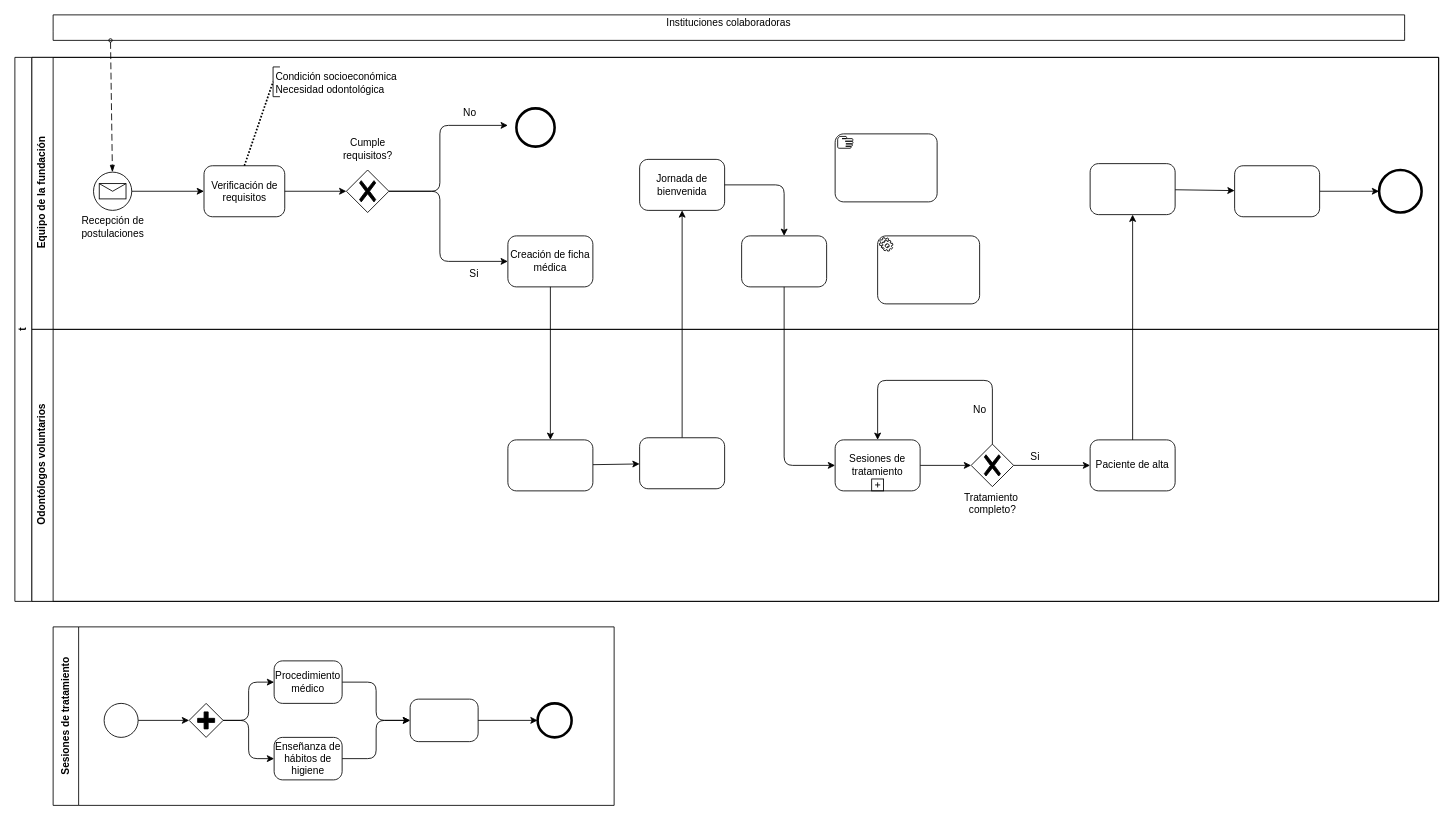
The diagram is 1454 pixels wide and 820 high, and some of its shapes have lost their labels. The centre of each missing label's shape, as x and y in pixels:
"Encuesta de satisfacción" belongs at point 1277,191.
"Evaluación inicial" belongs at point 550,465.
"Informe de recomendaciones" belongs at point 1132,189.
"Plan de tratamiento" belongs at point 682,463.
"Programar sesiones" belongs at point 784,261.
"Seguimiento clínico y educativo" belongs at point 443,720.
